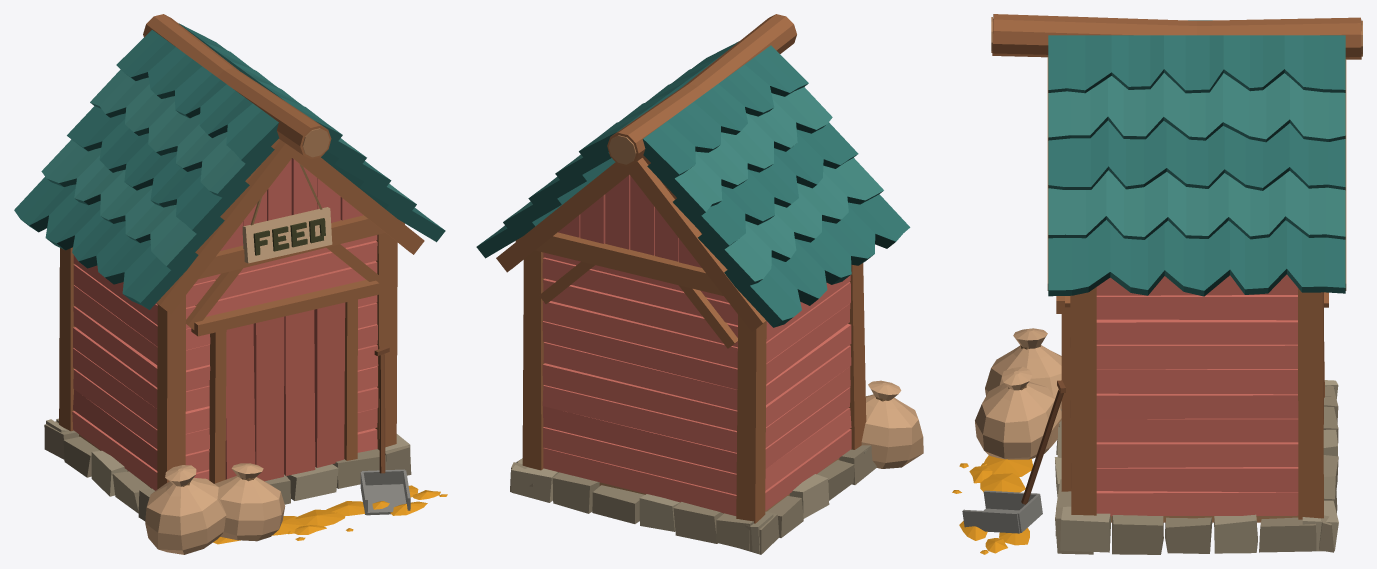
Rendered from feed-store-complete.glb.
3 views of the same model, side by side, from view 1: azimuth 30°, elevation 25°; view 2: azimuth 150°, elevation 25°; view 3: azimuth 270°, elevation 25° (orthographic). The views are drawn at different scales.
Parts seen in each view (by area): view 1: frame, walls, roof_left, door, roof_left_light, roof_edges, sacks, footing, ridge_log, gables, footing_light, spilled_grain (+6 smaller); view 2: walls, frame, roof_left, roof_left_light, roof_edges, footing, gables, ridge_log, sacks, footing_light, roof_right, ridge_log_ends; view 3: walls, roof_right, roof_right_light, frame, ridge_log, sacks, footing, roof_edges, footing_light, spilled_grain, scoop, scoop_handle.
Part boxes in pixels (bbox=[...]): frame: bbox=[59, 139, 424, 489]; walls: bbox=[72, 235, 378, 490]; roof_left: bbox=[14, 30, 278, 302]; door: bbox=[225, 302, 345, 481]; roof_left_light: bbox=[41, 69, 245, 265]; roof_edges: bbox=[23, 23, 445, 309]; sacks: bbox=[145, 463, 285, 554]; footing: bbox=[44, 418, 411, 521]; ridge_log: bbox=[143, 14, 331, 159]; gables: bbox=[220, 158, 363, 250]; footing_light: bbox=[46, 419, 410, 500]; spilled_grain: bbox=[213, 485, 447, 544]; walls: bbox=[542, 252, 851, 515]; frame: bbox=[496, 156, 866, 523]; roof_left: bbox=[643, 45, 910, 320]; roof_left_light: bbox=[675, 87, 883, 281]; roof_edges: bbox=[476, 54, 895, 327]; footing: bbox=[510, 445, 876, 554]; gables: bbox=[558, 174, 701, 267]; ridge_log: bbox=[607, 14, 796, 166]; sacks: bbox=[861, 380, 923, 468]; footing_light: bbox=[511, 449, 867, 553]; roof_right: bbox=[478, 41, 739, 245]; ridge_log_ends: bbox=[609, 135, 636, 164]; walls: bbox=[1096, 274, 1298, 516]; roof_right: bbox=[1048, 35, 1345, 290]; roof_right_light: bbox=[1048, 73, 1345, 236]; frame: bbox=[1047, 57, 1346, 519]; ridge_log: bbox=[992, 14, 1361, 59]; sacks: bbox=[975, 328, 1061, 459]; footing: bbox=[1055, 386, 1338, 554]; roof_edges: bbox=[1048, 20, 1345, 296]; footing_light: bbox=[1055, 380, 1338, 553]; spilled_grain: bbox=[952, 455, 1032, 554]; scoop: bbox=[962, 490, 1042, 533]; scoop_handle: bbox=[1021, 380, 1065, 504].
Size of the model in its own units: 3.15 by 3.92 by 3.11.
